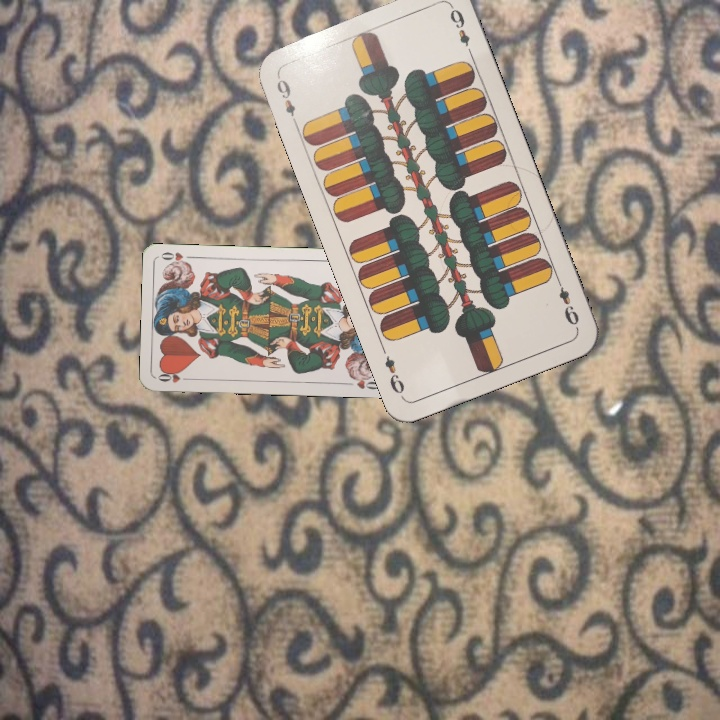E9: (552, 274, 582, 331), (272, 71, 298, 119)
HO: (154, 368, 194, 385)
